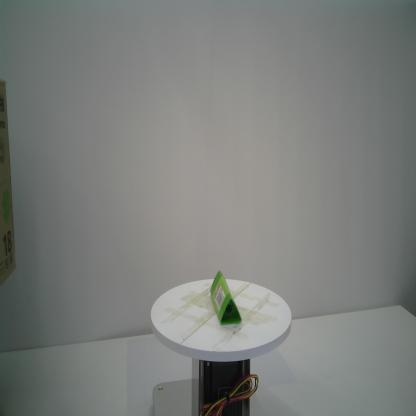Stationery: (210, 271, 242, 325)
